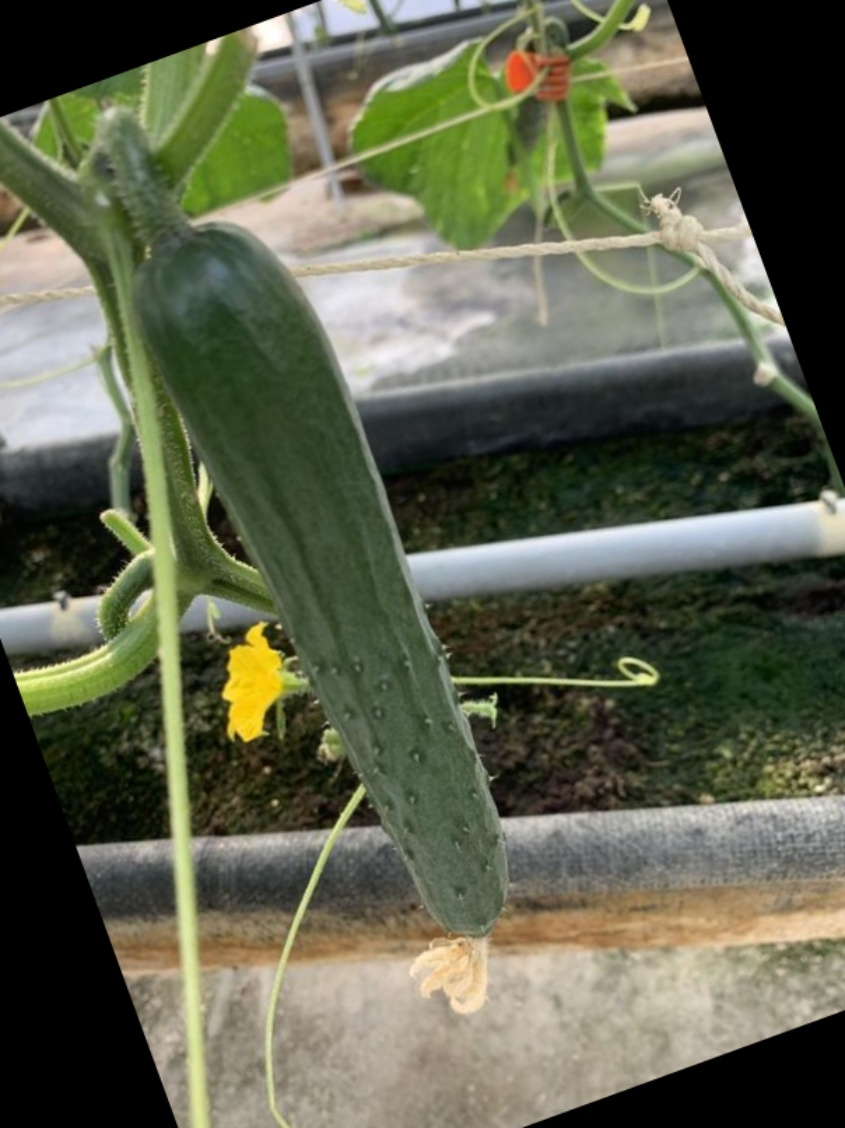mature: (121, 194, 550, 974)
